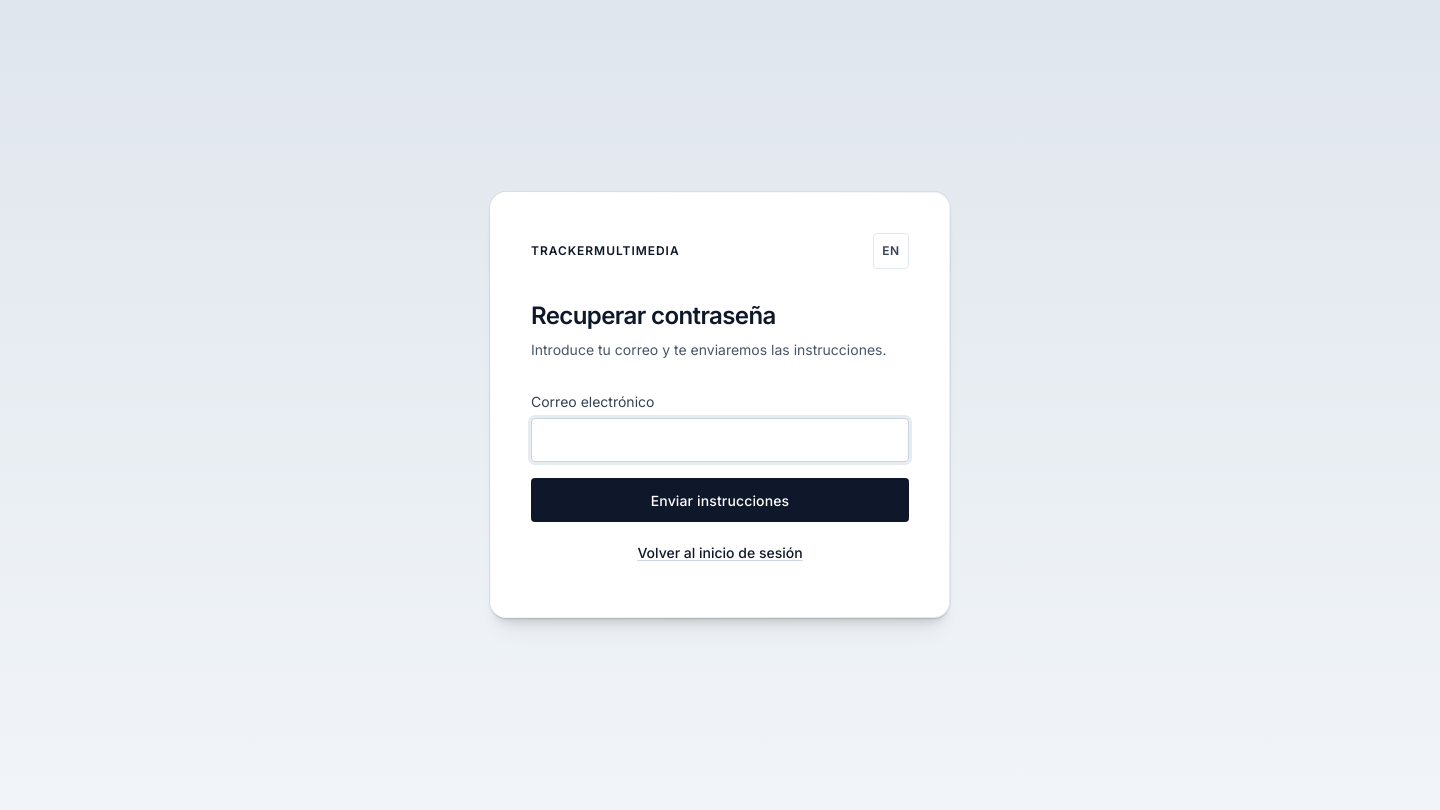
Test case: ForgotPasswordView › submits the email and shows the confirmation state
In the field labelled "Correo electrónico": {"x": 720, "y": 440} [531,418,909,462], type "user@test.com"
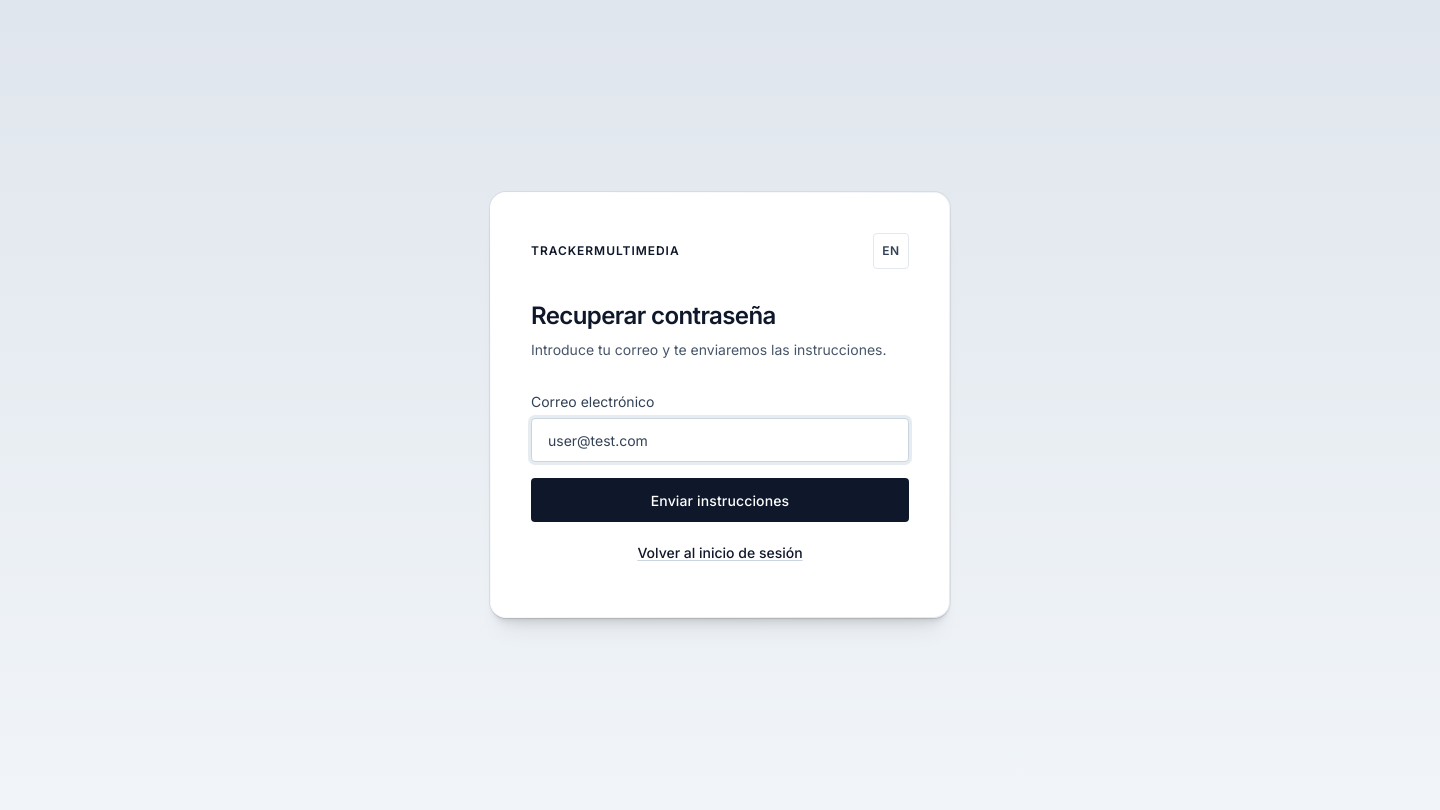
Click the button "Enviar instrucciones": {"x": 720, "y": 500} [531,478,909,522]
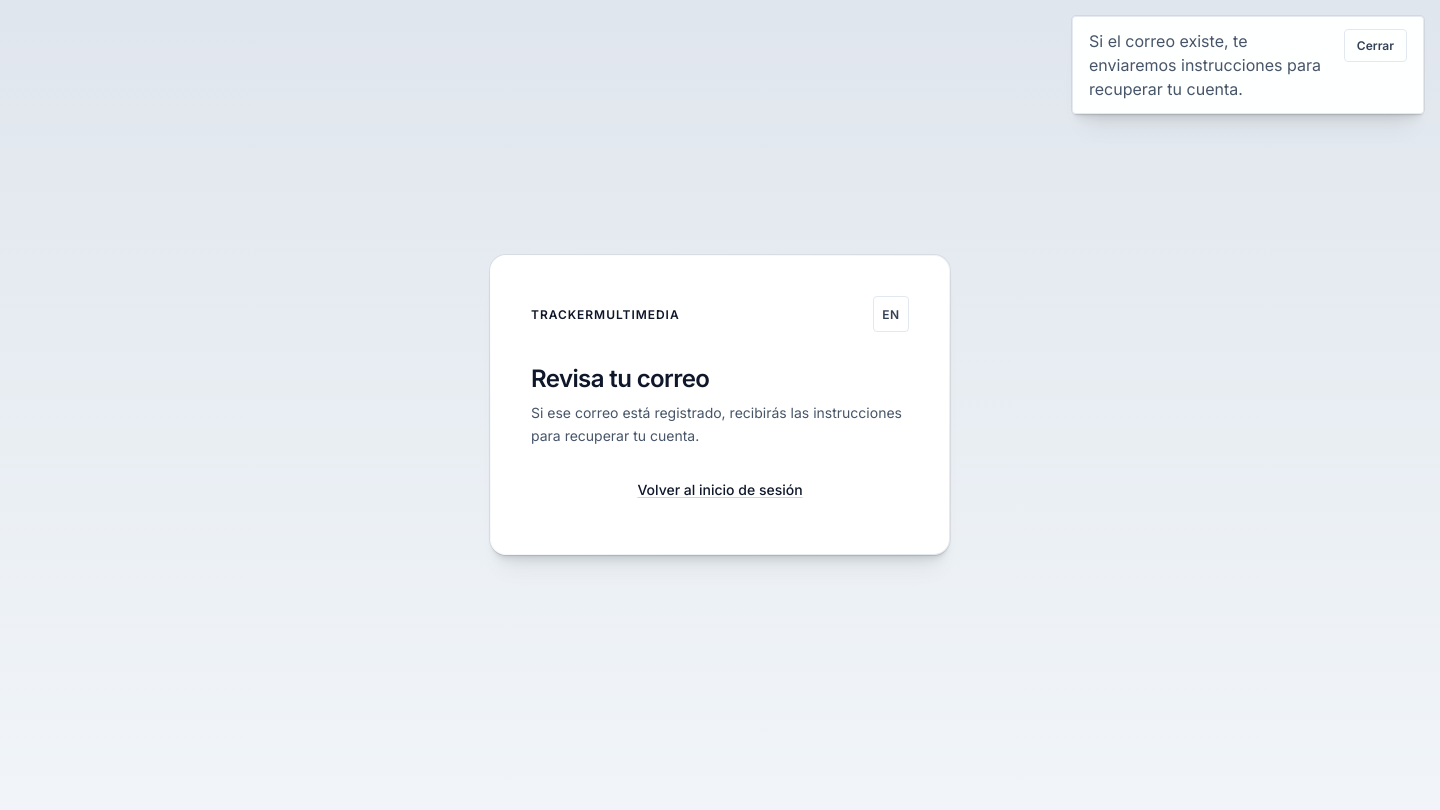
expect the heading "Revisa tu correo" is shown: met, box [531,364,709,393]
expect the text "Si el correo existe, te enviaremos instrucciones para recuperar tu cuenta." is shown: met, box [1089,29,1332,101]
